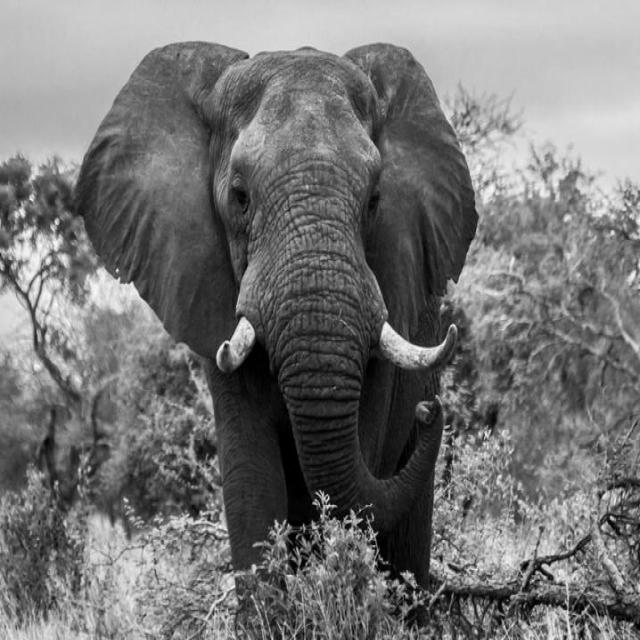Elephant: (71, 38, 479, 632)
